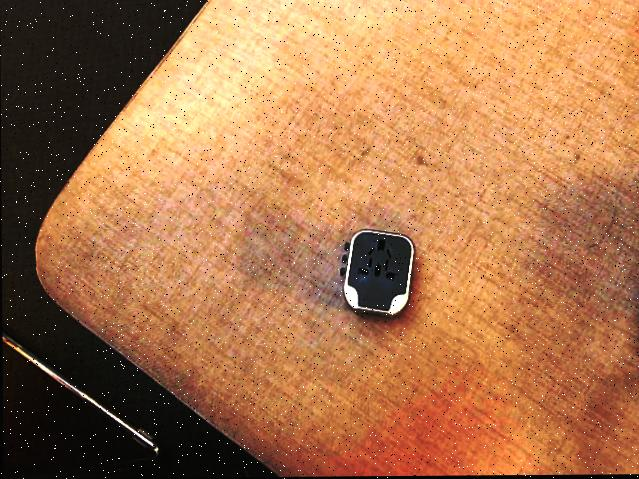adapter: (338, 230, 415, 318)
